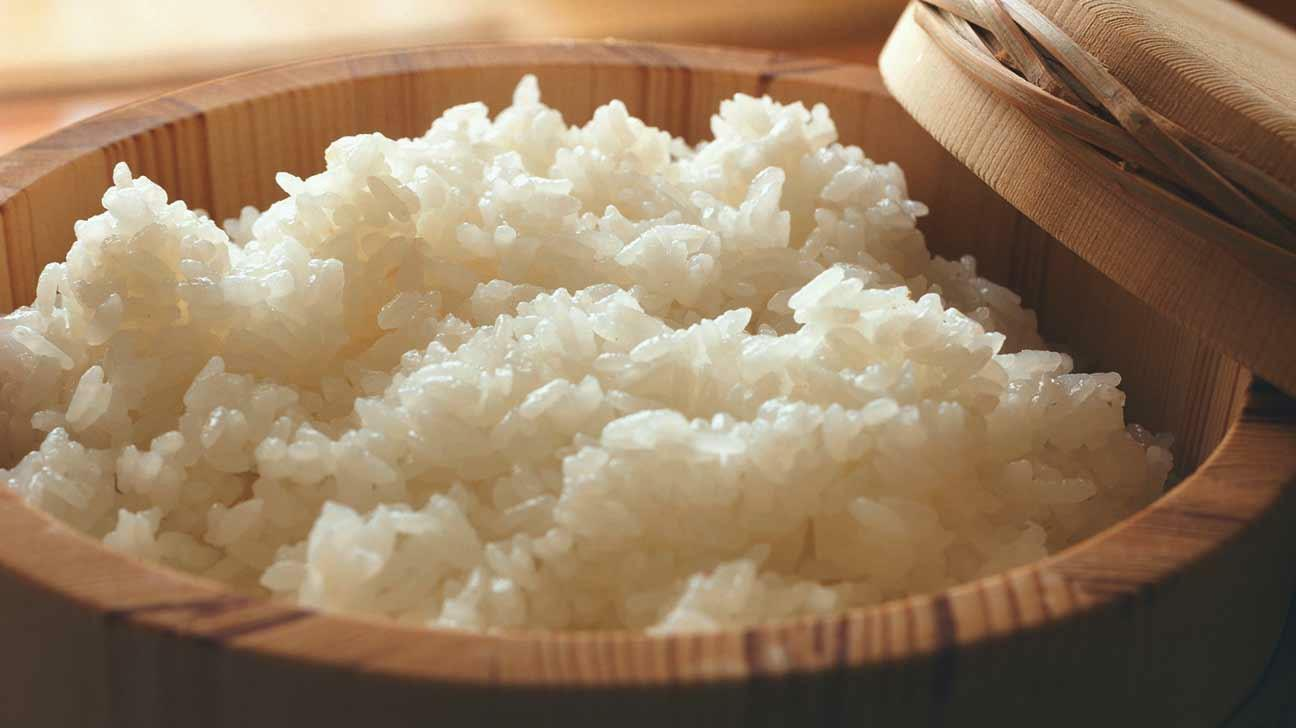WhiteRice: (0, 71, 1170, 631)
